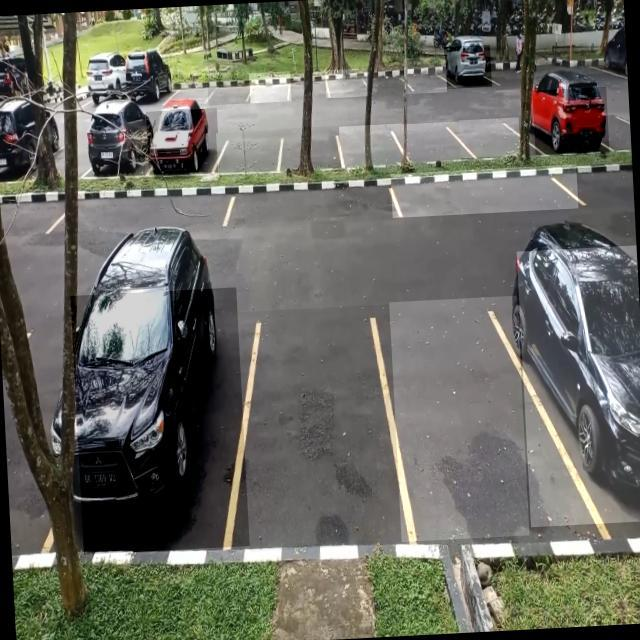empty: (237, 304, 402, 552), (389, 296, 530, 542), (391, 164, 578, 218), (222, 178, 400, 229), (216, 130, 286, 175), (279, 126, 344, 172), (339, 123, 404, 168), (400, 122, 461, 164), (458, 118, 520, 158), (403, 56, 448, 94), (248, 72, 292, 104), (208, 74, 250, 106), (325, 68, 368, 98)
occupied: (70, 288, 250, 554), (517, 245, 640, 527), (532, 86, 610, 158), (146, 108, 220, 176), (443, 44, 492, 90)
